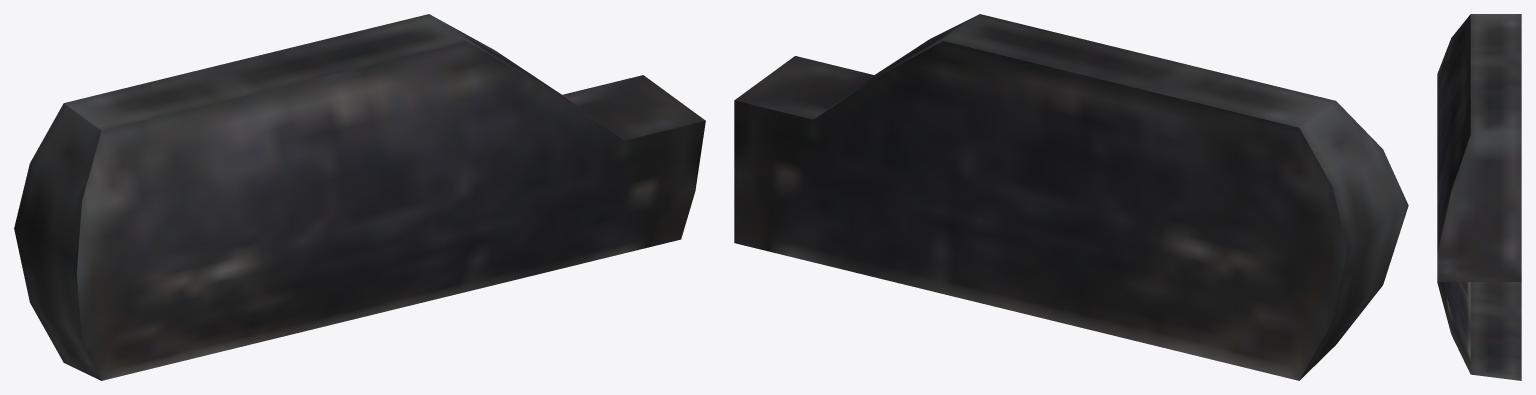
Rendered from zatvor.obj.
The picture shows the model from 3 angles, left to right: view 1: azimuth 30°, elevation 25°; view 2: azimuth 150°, elevation 25°; view 3: azimuth 270°, elevation 25°; orthographic projection. The views are drawn at different scales.
Parts seen in each view (by area): view 1: wpn_aka; view 2: wpn_aka; view 3: wpn_aka.
Part boxes in pixels (bbox=[...]): wpn_aka: bbox=[14, 14, 705, 380]; wpn_aka: bbox=[734, 14, 1408, 380]; wpn_aka: bbox=[1437, 14, 1521, 380].
Bounding box in the file's own units: 0.0279 × 0.011 × 0.0048.
1 material, 1 textured.
